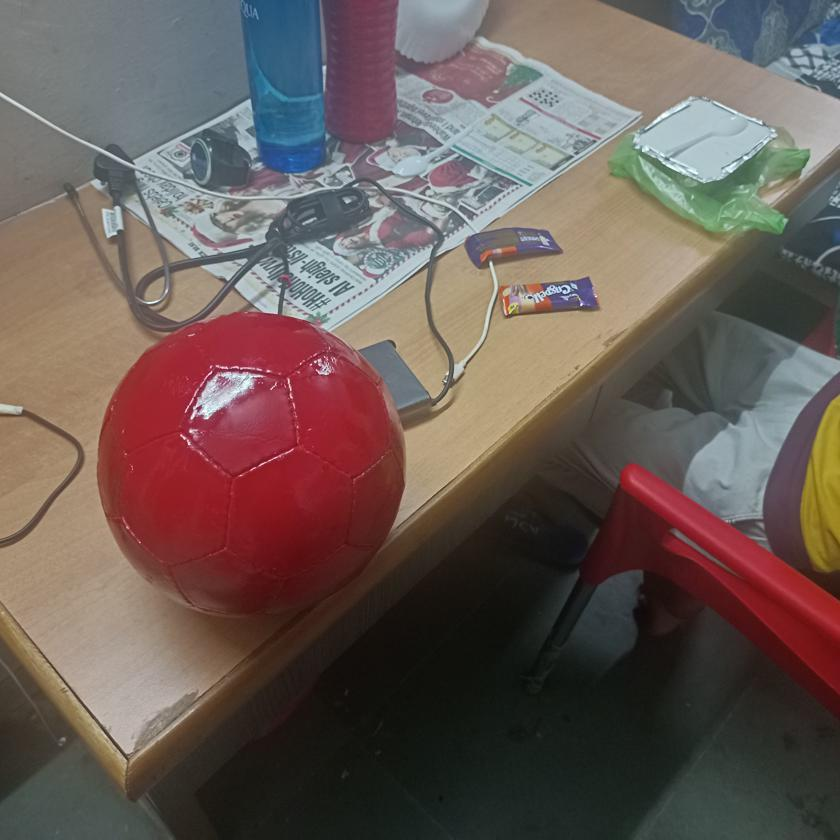Red_Ball: (98, 311, 406, 618), (250, 304, 268, 323)
